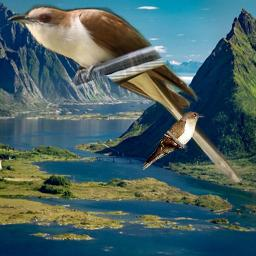Cuckoo: (7, 4, 246, 187), (143, 111, 205, 170)
